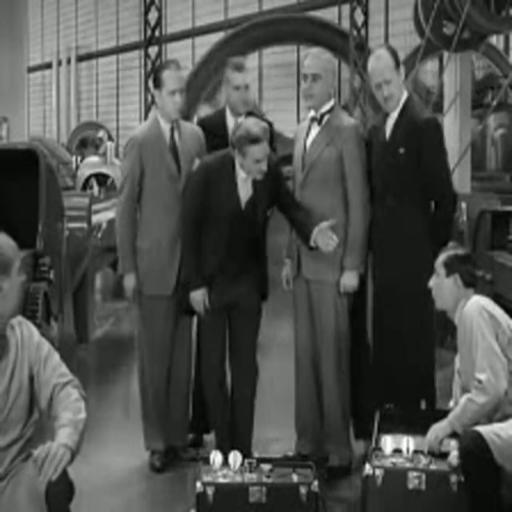nao-violencia: (168, 93, 512, 482)
